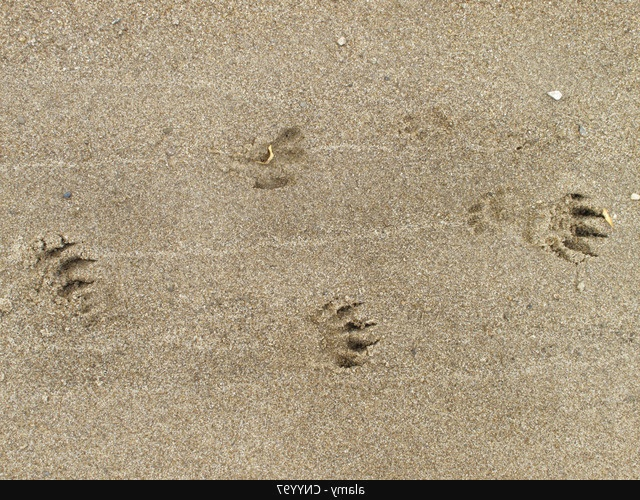beaver: (237, 302, 392, 398), (459, 185, 613, 264)
